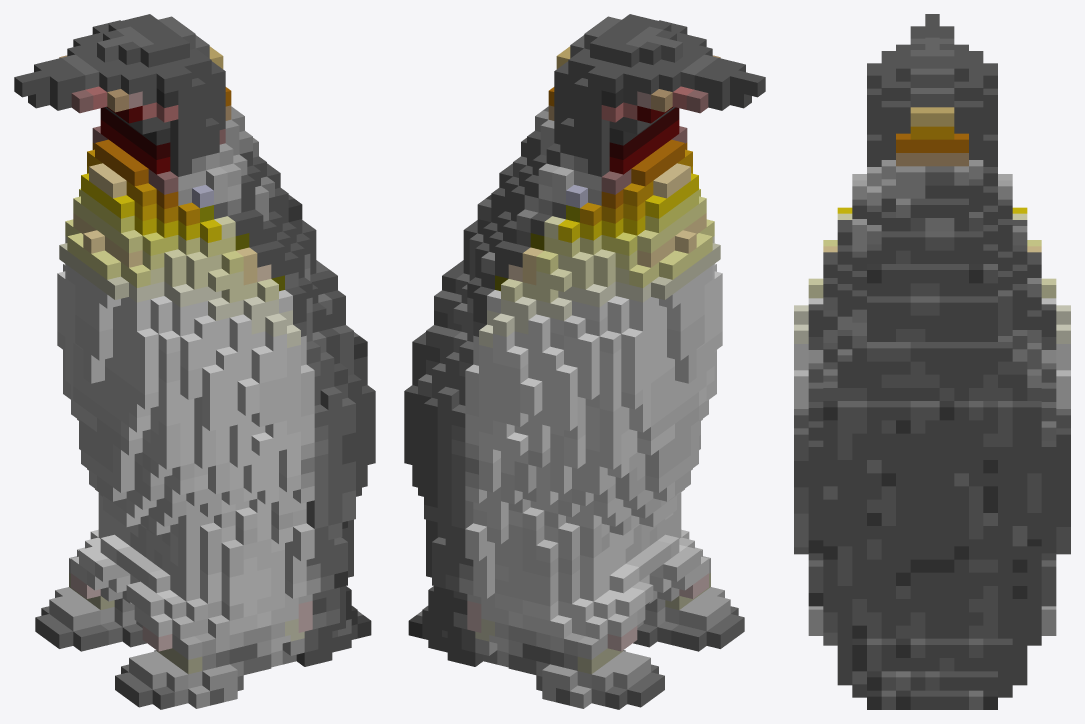
File: penguin.gltf
3 renders of one model, left to right at view 1: azimuth 30°, elevation 25°; view 2: azimuth 150°, elevation 25°; view 3: azimuth 270°, elevation 25°, orthographic. The views are drawn at different scales.
Parts seen in each view (by area): view 1: Geode; view 2: Geode; view 3: Geode.
Boxes of the visible parts, left/top/right/bottom form: Geode: left=14, top=14, right=375, bottom=709; Geode: left=404, top=14, right=765, bottom=709; Geode: left=794, top=14, right=1070, bottom=709.
Size of the model in its own units: 23 by 43 by 19.
